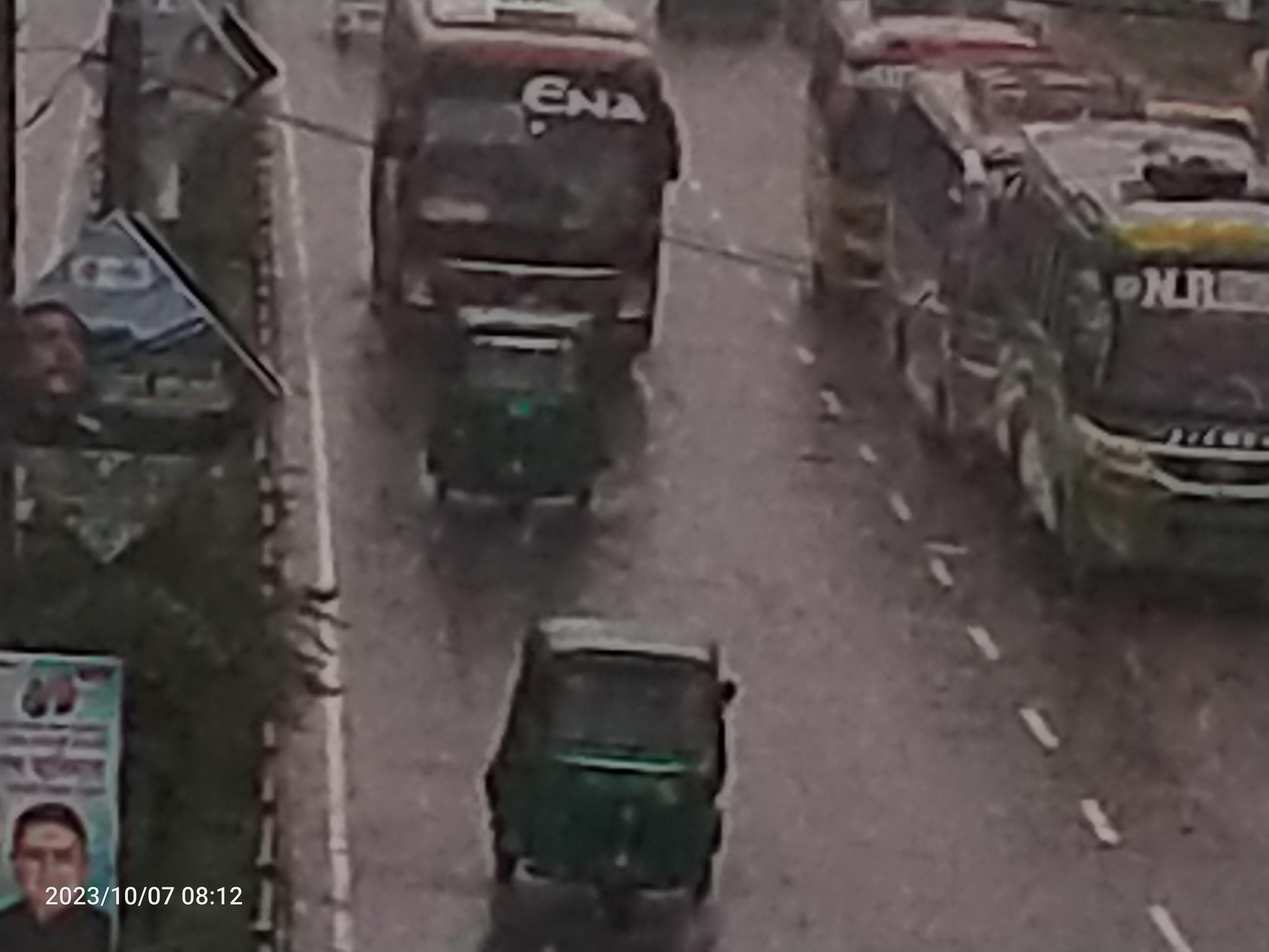Bus: (349, 0, 739, 384), (991, 90, 1269, 607), (857, 56, 1008, 446), (786, 7, 910, 314)
